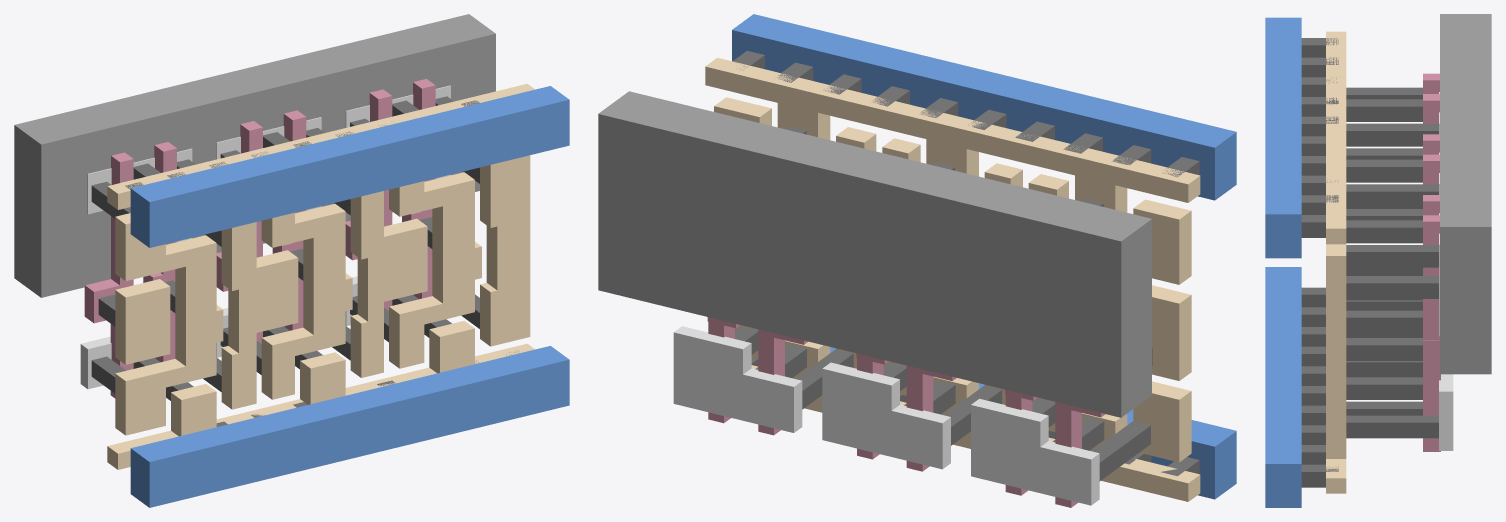
Rendered from sky130_fd_sc_hd__dlymetal6s6s_1.gds.gltf.
3 views of the same model, side by side, from view 1: azimuth 30°, elevation 25°; view 2: azimuth 150°, elevation 25°; view 3: azimuth 270°, elevation 25° (orthographic). The views are drawn at different scales.
Visible parts, largest first — view 1: sky130_fd_sc_hd__dlymetal6s6s_1_li1, sky130_fd_sc_hd__dlymetal6s6s_1_met1, sky130_fd_sc_hd__dlymetal6s6s_1_nwell, sky130_fd_sc_hd__dlymetal6s6s_1_poly, sky130_fd_sc_hd__dlymetal6s6s_1_licon, sky130_fd_sc_hd__dlymetal6s6s_1_diff, sky130_fd_sc_hd__dlymetal6s6s_1_mcon; view 2: sky130_fd_sc_hd__dlymetal6s6s_1_nwell, sky130_fd_sc_hd__dlymetal6s6s_1_li1, sky130_fd_sc_hd__dlymetal6s6s_1_diff, sky130_fd_sc_hd__dlymetal6s6s_1_met1, sky130_fd_sc_hd__dlymetal6s6s_1_licon, sky130_fd_sc_hd__dlymetal6s6s_1_poly, sky130_fd_sc_hd__dlymetal6s6s_1_mcon; view 3: sky130_fd_sc_hd__dlymetal6s6s_1_licon, sky130_fd_sc_hd__dlymetal6s6s_1_nwell, sky130_fd_sc_hd__dlymetal6s6s_1_met1, sky130_fd_sc_hd__dlymetal6s6s_1_mcon, sky130_fd_sc_hd__dlymetal6s6s_1_li1, sky130_fd_sc_hd__dlymetal6s6s_1_poly, sky130_fd_sc_hd__dlymetal6s6s_1_diff.
Part boxes in pixels (box(x1,y1,x2,y2)): sky130_fd_sc_hd__dlymetal6s6s_1_li1: box(107, 83, 534, 469); sky130_fd_sc_hd__dlymetal6s6s_1_met1: box(130, 86, 569, 507); sky130_fd_sc_hd__dlymetal6s6s_1_nwell: box(14, 14, 495, 297); sky130_fd_sc_hd__dlymetal6s6s_1_poly: box(84, 79, 435, 398); sky130_fd_sc_hd__dlymetal6s6s_1_licon: box(91, 96, 479, 400); sky130_fd_sc_hd__dlymetal6s6s_1_diff: box(80, 85, 450, 389); sky130_fd_sc_hd__dlymetal6s6s_1_mcon: box(125, 100, 519, 426); sky130_fd_sc_hd__dlymetal6s6s_1_nwell: box(598, 91, 1151, 417); sky130_fd_sc_hd__dlymetal6s6s_1_li1: box(705, 57, 1200, 501); sky130_fd_sc_hd__dlymetal6s6s_1_diff: box(673, 326, 1099, 505); sky130_fd_sc_hd__dlymetal6s6s_1_met1: box(732, 14, 1236, 499); sky130_fd_sc_hd__dlymetal6s6s_1_licon: box(735, 126, 1152, 481); sky130_fd_sc_hd__dlymetal6s6s_1_poly: box(707, 317, 1105, 507); sky130_fd_sc_hd__dlymetal6s6s_1_mcon: box(733, 50, 1199, 476); sky130_fd_sc_hd__dlymetal6s6s_1_licon: box(1346, 87, 1438, 438); sky130_fd_sc_hd__dlymetal6s6s_1_nwell: box(1440, 14, 1491, 374); sky130_fd_sc_hd__dlymetal6s6s_1_met1: box(1265, 17, 1301, 507); sky130_fd_sc_hd__dlymetal6s6s_1_mcon: box(1301, 38, 1338, 487); sky130_fd_sc_hd__dlymetal6s6s_1_li1: box(1326, 31, 1346, 493); sky130_fd_sc_hd__dlymetal6s6s_1_poly: box(1423, 73, 1440, 451); sky130_fd_sc_hd__dlymetal6s6s_1_diff: box(1439, 92, 1453, 450).
Size of the model in its own units: 4.98 by 3.2 by 2.24.
